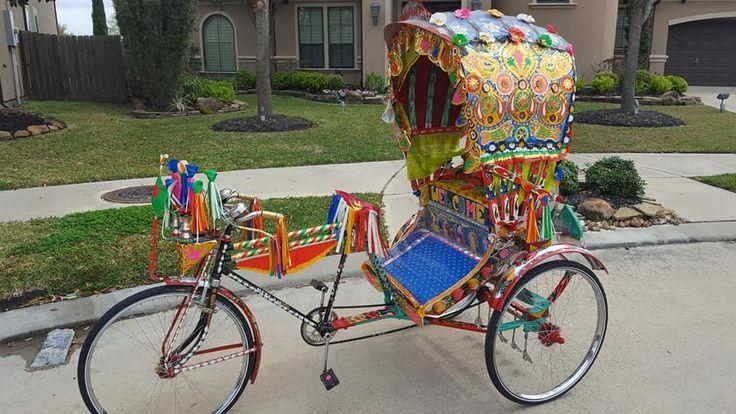Rickshaw: (78, 9, 606, 412)
